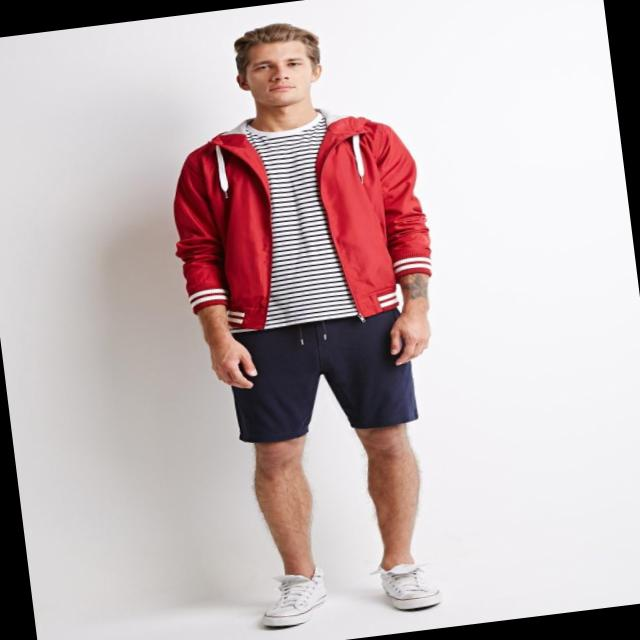Jacket: (152, 92, 444, 338)
